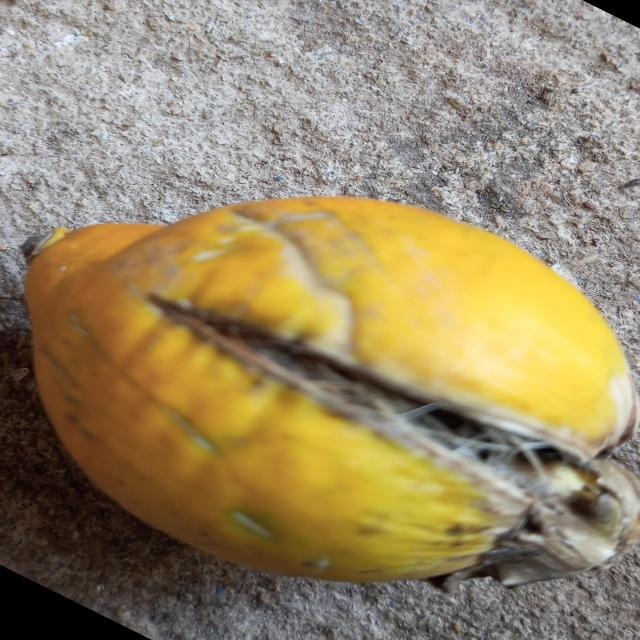damaged: (24, 196, 640, 593)
